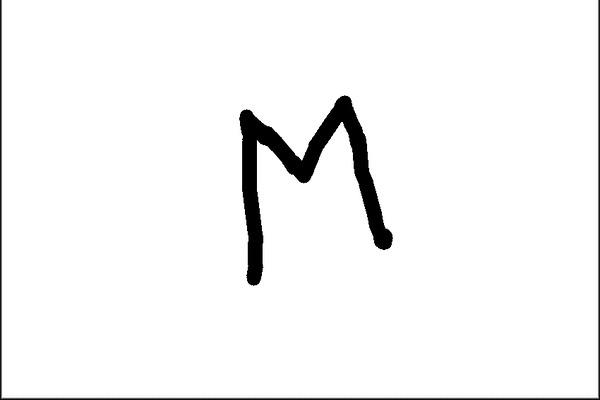M: (234, 93, 394, 293)
